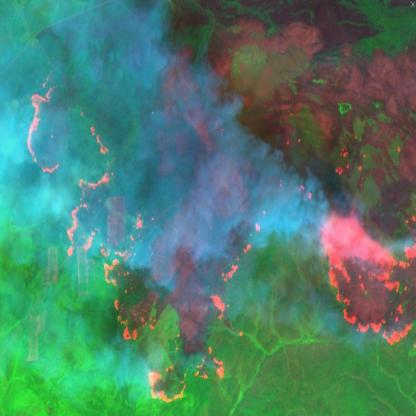fire: (65, 121, 157, 344), (314, 204, 416, 351), (145, 351, 232, 408), (25, 72, 64, 175)
